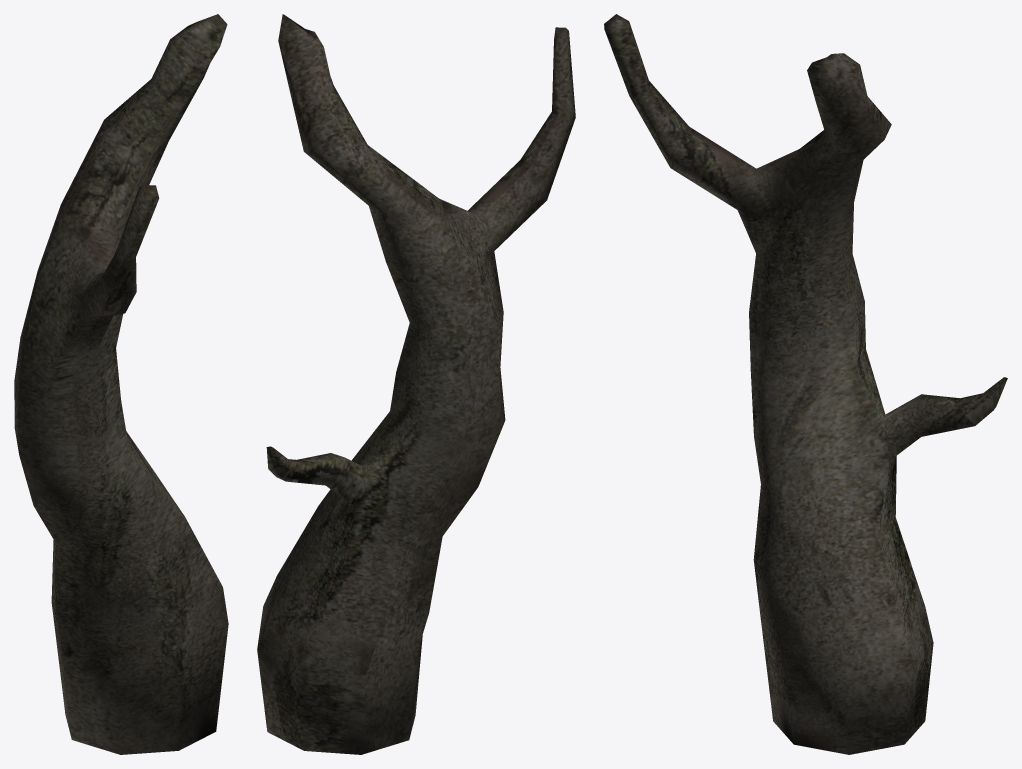
The model's file is Tree.fbx.
The picture shows the model from 3 angles, left to right: view 1: azimuth 30°, elevation 25°; view 2: azimuth 150°, elevation 25°; view 3: azimuth 270°, elevation 25°; orthographic projection. The views are drawn at different scales.
Visible parts, largest first — view 1: Cube; view 2: Cube; view 3: Cube.
Boxes of the visible parts, x1=… form: Cube: x1=14, y1=14, x2=228, y2=754; Cube: x1=257, y1=14, x2=575, y2=754; Cube: x1=604, y1=14, x2=1007, y2=754.
Size of the model in its own units: 4.63 by 13.96 by 7.29.
